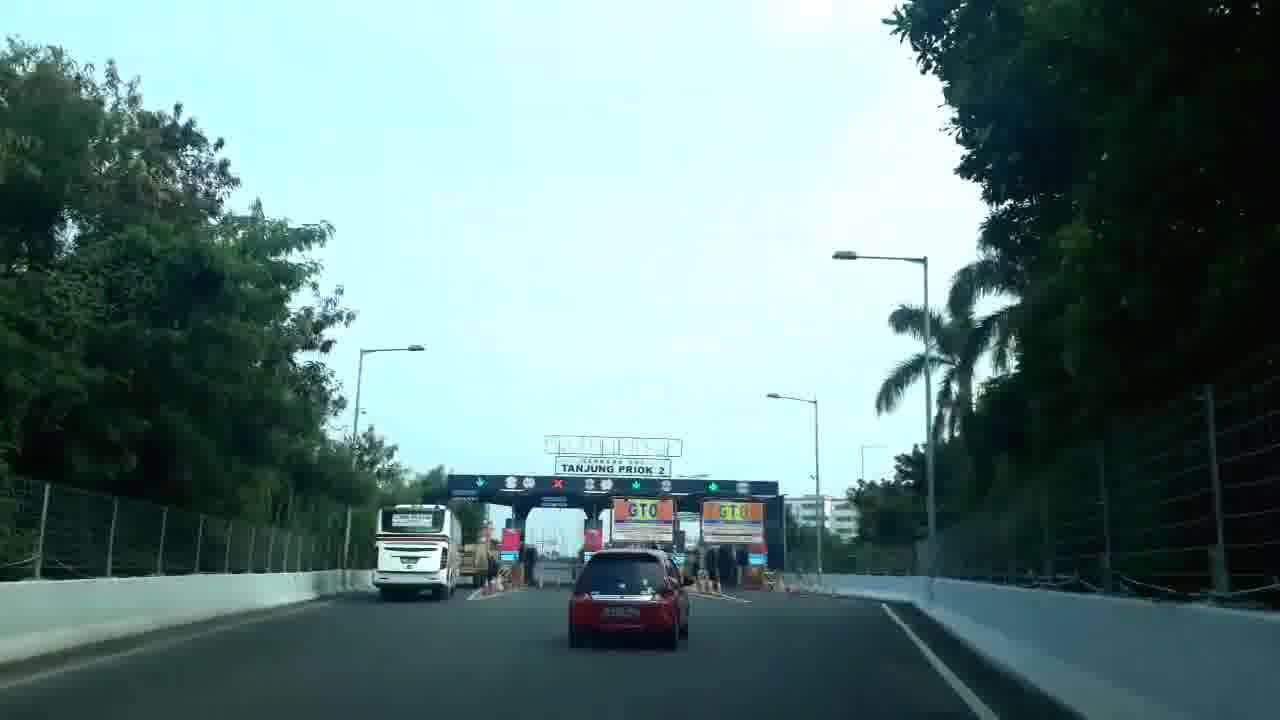plate_positive: (604, 606, 638, 616)
